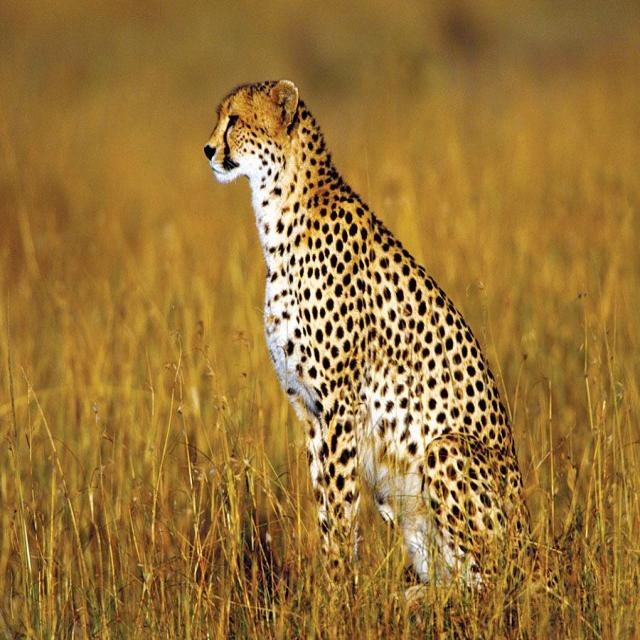Cheetah: (202, 74, 536, 596)
